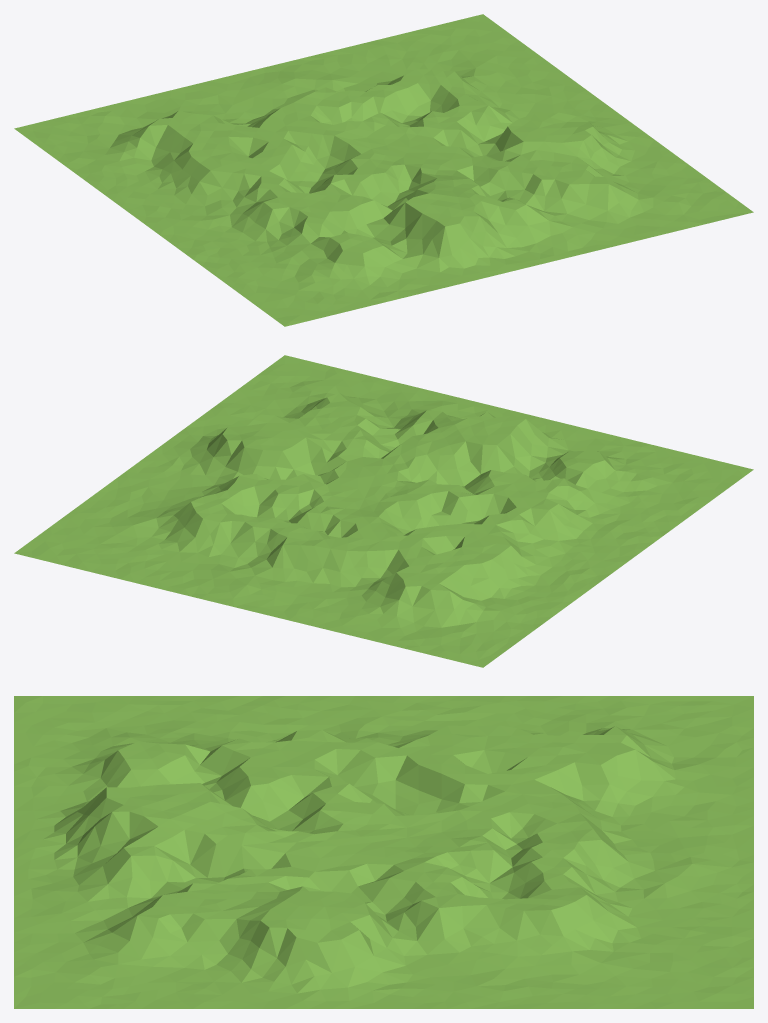
File: MT_Terrain_L_c_07.fbx
3 renders of one model, top to bottom at view 1: azimuth 30°, elevation 25°; view 2: azimuth 150°, elevation 25°; view 3: azimuth 270°, elevation 25°, orthographic. The views are drawn at different scales.
Parts seen in each view (by area): view 1: MT_Terrain_L_c_07; view 2: MT_Terrain_L_c_07; view 3: MT_Terrain_L_c_07.
Boxes of the visible parts, left/top/right/bottom form: MT_Terrain_L_c_07: left=14, top=14, right=753, bottom=326; MT_Terrain_L_c_07: left=14, top=355, right=753, bottom=667; MT_Terrain_L_c_07: left=14, top=696, right=753, bottom=1008.
Bounding box in the file's own units: 10000 × 614 × 10000.
